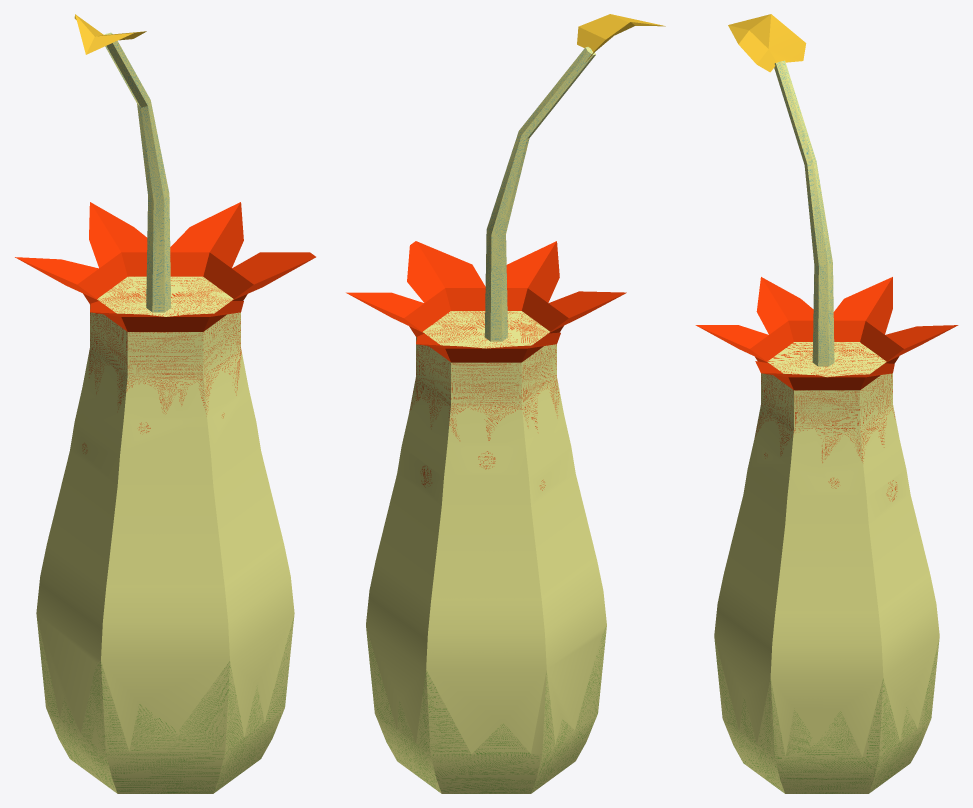
File: Plant_Jungle_Flower_02.fbx
The picture shows the model from 3 angles, left to right: view 1: azimuth 30°, elevation 25°; view 2: azimuth 150°, elevation 25°; view 3: azimuth 270°, elevation 25°; orthographic projection. The views are drawn at different scales.
Parts seen in each view (by area): view 1: Plant_Jungle_Flower_02; view 2: Plant_Jungle_Flower_02; view 3: Plant_Jungle_Flower_02.
Part boxes in pixels (<box>): Plant_Jungle_Flower_02: <box>15,14,315,793</box>; Plant_Jungle_Flower_02: <box>346,14,665,793</box>; Plant_Jungle_Flower_02: <box>695,14,958,793</box>.
Bounding box in the file's own units: 10.05 × 30.71 × 10.54.
